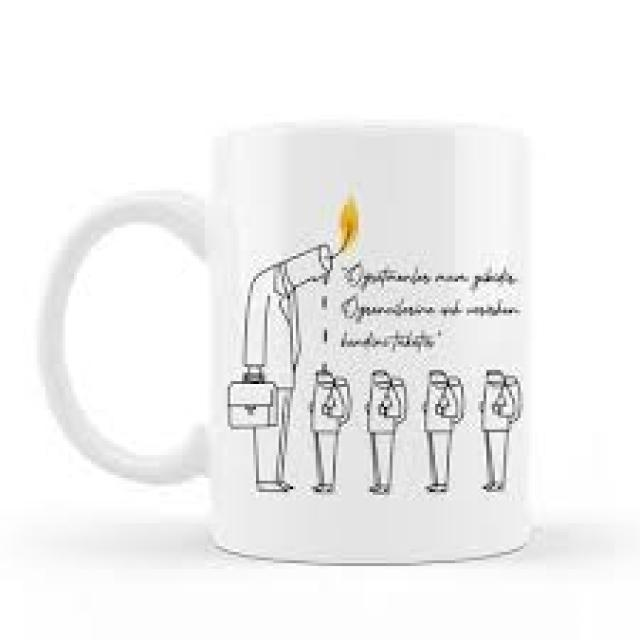taza: (36, 116, 534, 568)
